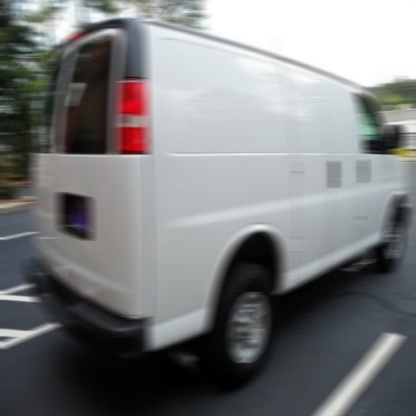Vehicle: (23, 13, 411, 392)
